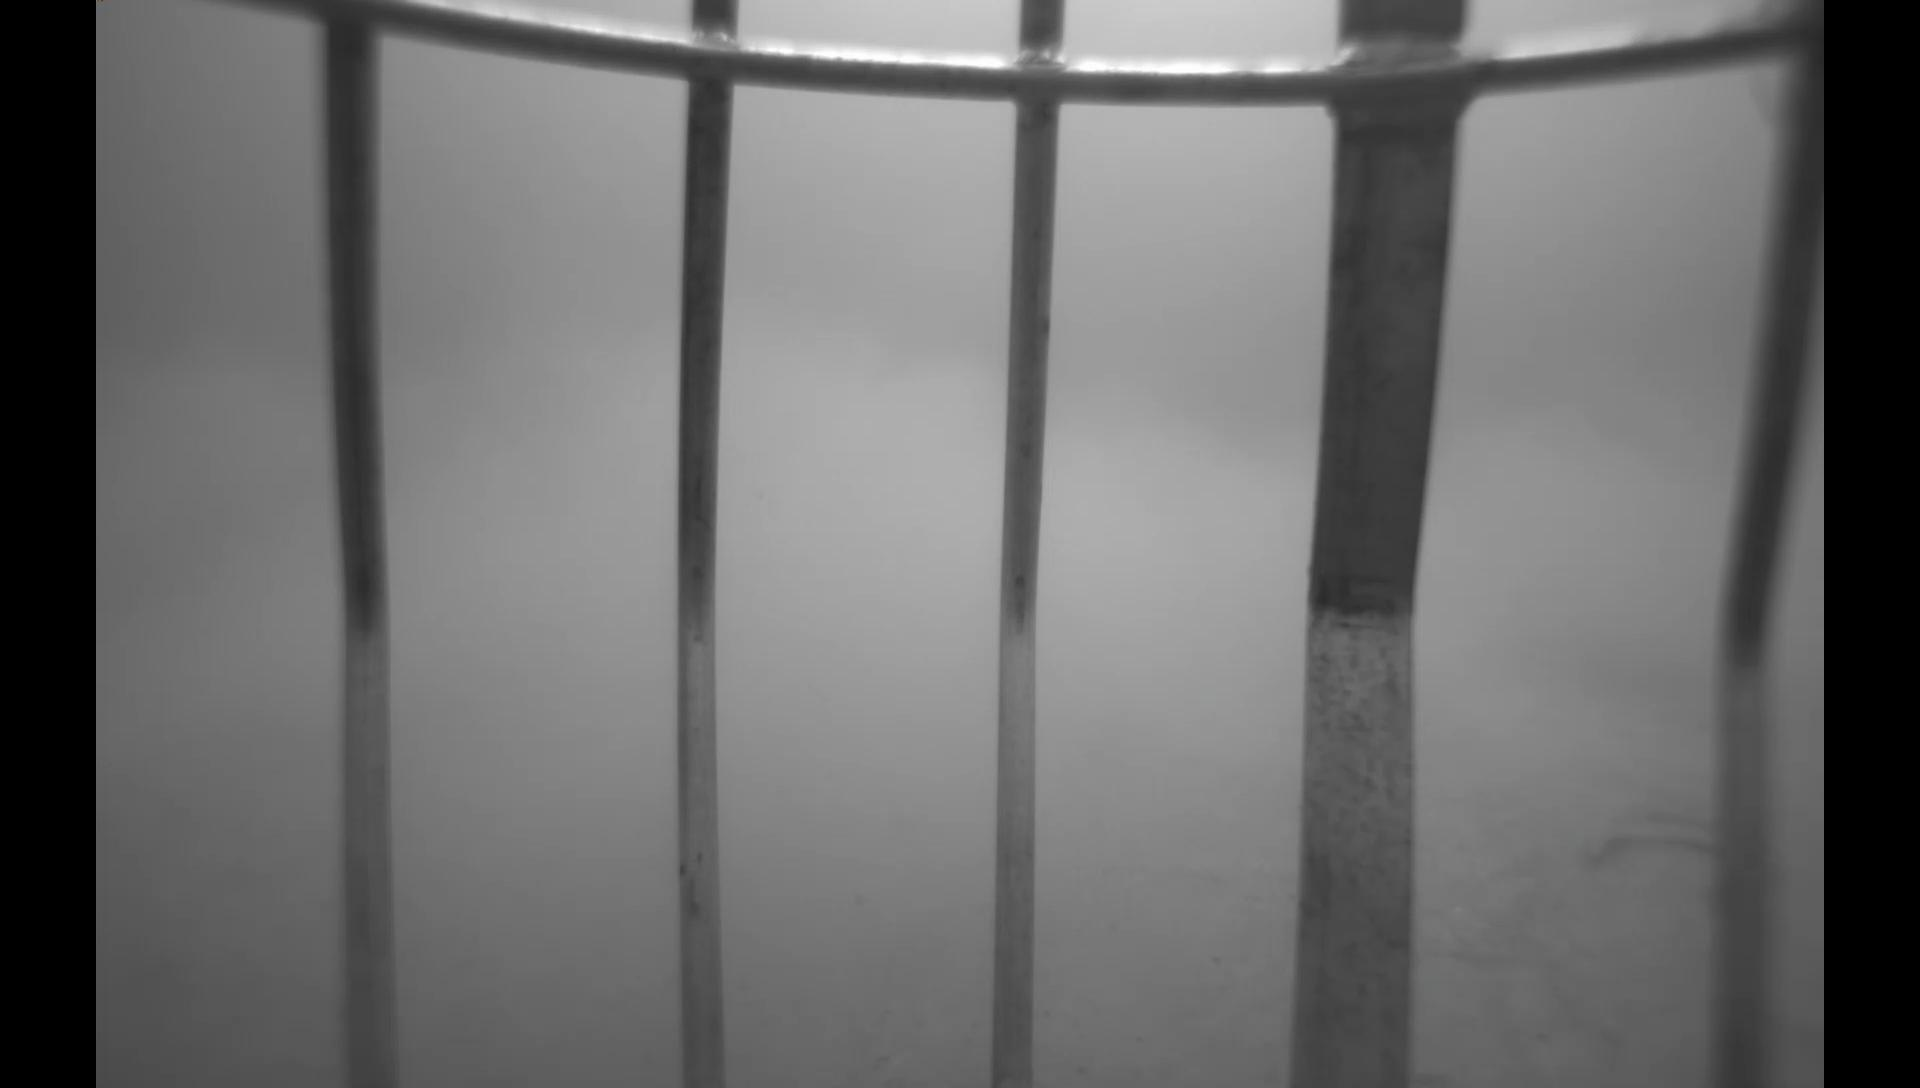OPHICHTHUSPUNCTICEPS-143150402: (1575, 801, 1712, 877)
